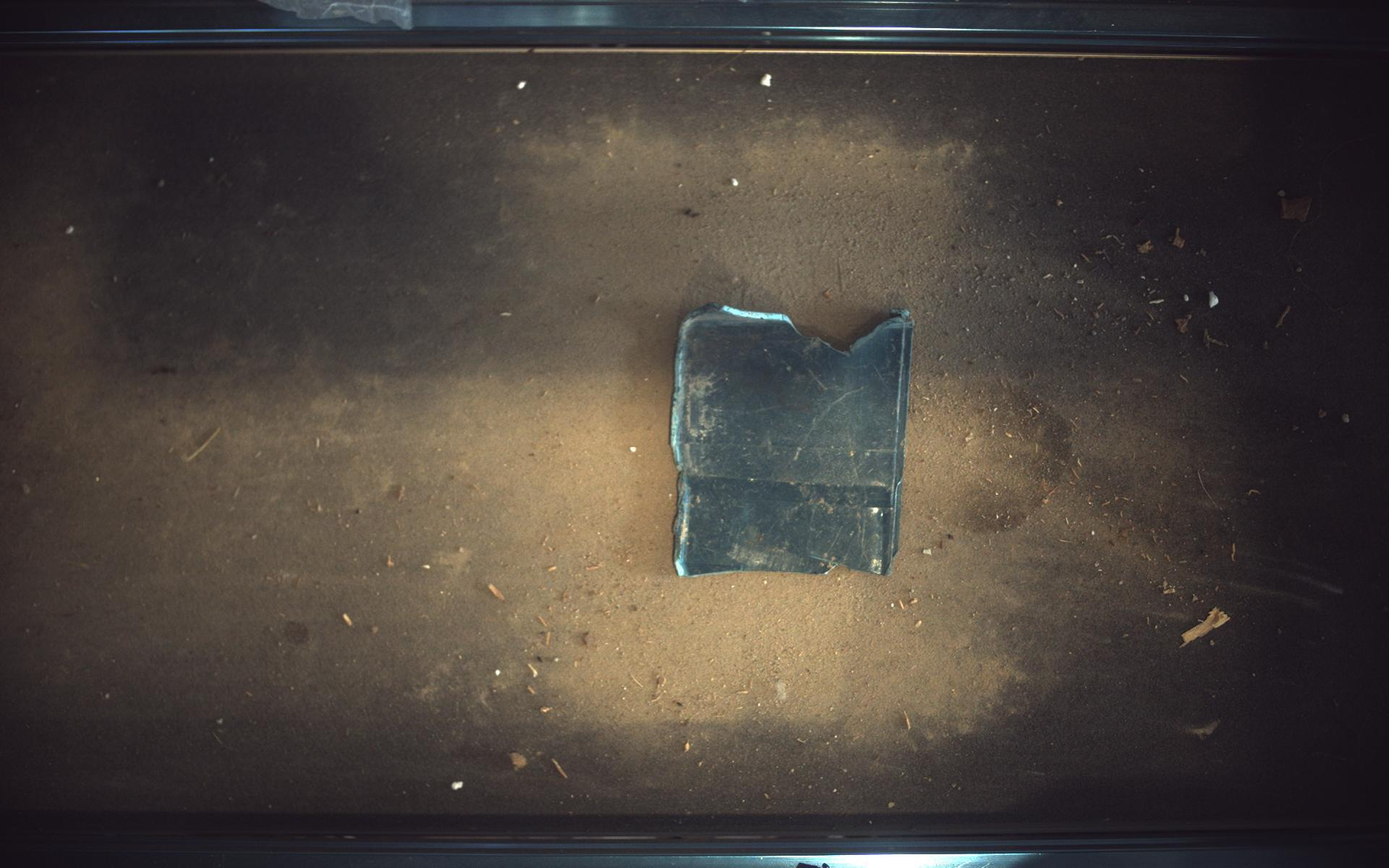plastic: (672, 304, 915, 576)
